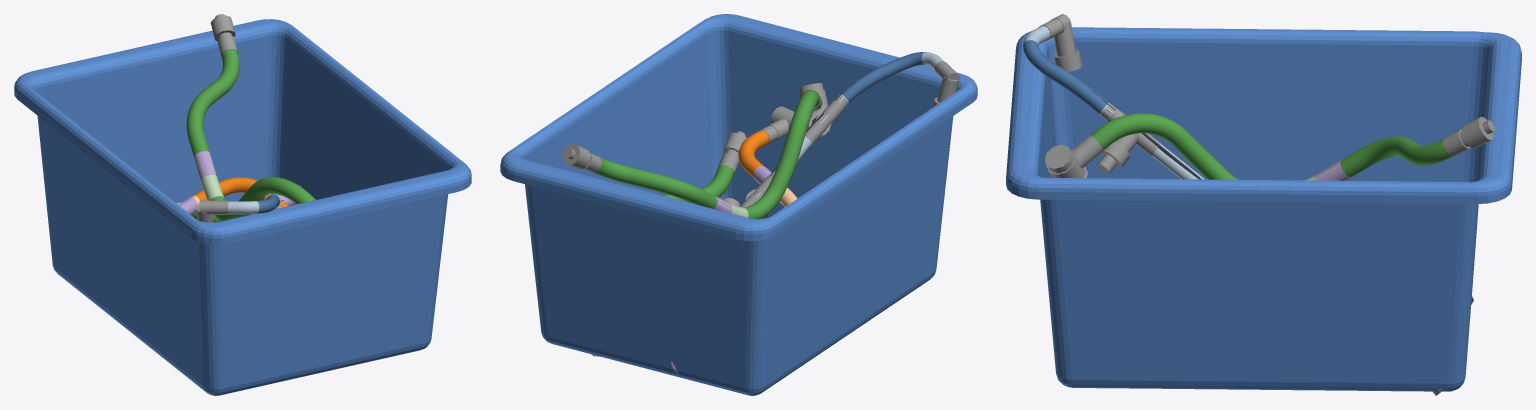
3 renders of one model, left to right at view 1: azimuth 30°, elevation 25°; view 2: azimuth 150°, elevation 25°; view 3: azimuth 270°, elevation 25°, orthographic. The views are drawn at different scales.
Visible parts, largest first — view 1: bin, tube_0_Y, tube_1_AB, tube_3_X; view 2: bin, tube_0_Y, tube_1_AB, tube_5_X, tube_2_Y; view 3: bin, tube_0_Y, tube_1_AB.
Part boxes in pixels (left/top/right/bottom): bin: left=14, top=19, right=471, bottom=395; tube_0_Y: left=186, top=14, right=351, bottom=227; tube_1_AB: left=196, top=194, right=283, bottom=244; tube_3_X: left=178, top=177, right=300, bottom=214; bin: left=500, top=14, right=977, bottom=395; tube_0_Y: left=562, top=83, right=828, bottom=218; tube_1_AB: left=740, top=52, right=959, bottom=218; tube_5_X: left=590, top=106, right=797, bottom=356; tube_2_Y: left=663, top=131, right=746, bottom=374; bin: left=1006, top=27, right=1521, bottom=391; tube_0_Y: left=1045, top=113, right=1495, bottom=180; tube_1_AB: left=1023, top=14, right=1442, bottom=395.
Bounding box in the file's own units: 0.3034 × 0.2236 × 0.4039.
